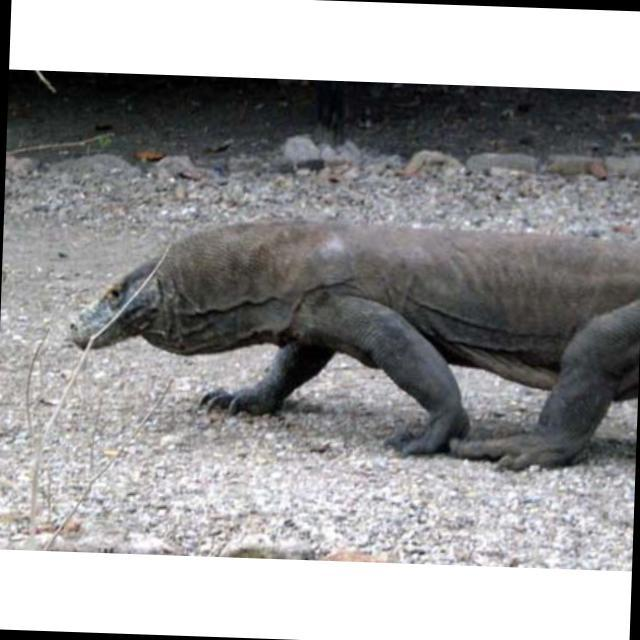KomodoDragon: (62, 208, 640, 473)
